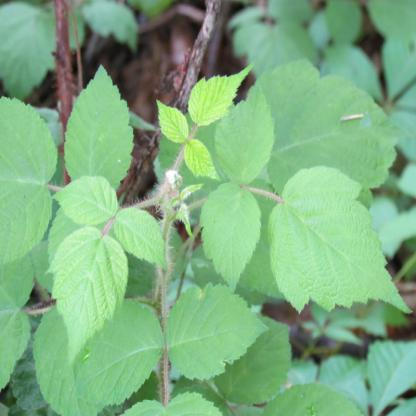raspberry leaf: (270, 166, 414, 317), (49, 224, 131, 356), (168, 283, 270, 385), (213, 78, 278, 189), (201, 180, 262, 296), (112, 205, 168, 269), (48, 176, 121, 223)
